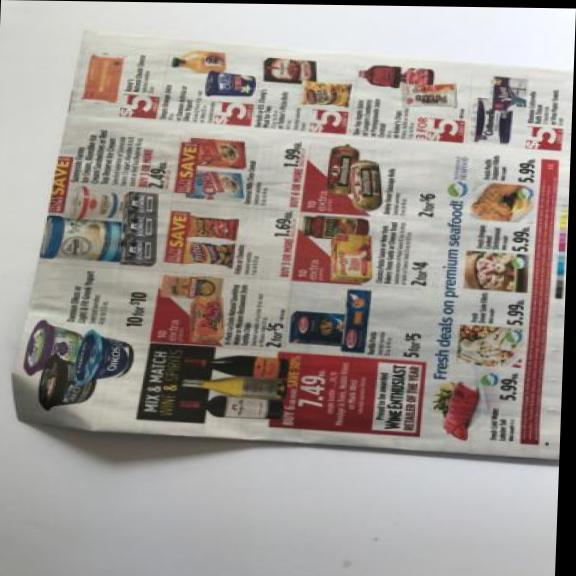Kertas: (3, 30, 575, 462)
